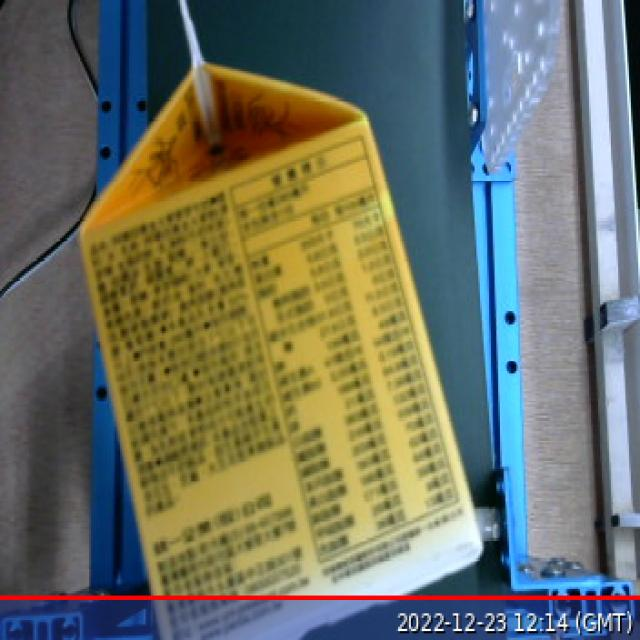non_white_jug: (60, 0, 511, 640)
